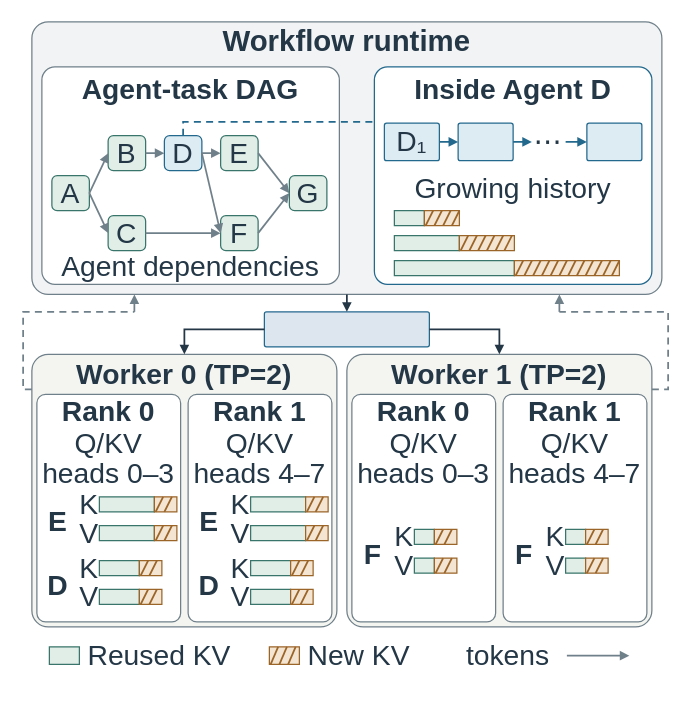
The diagram is 693 pixels wide and 701 high, and some of its shapes have lost their labels. Each missing label, with the centre of its shape:
"D₂" goes at pixel 485 141.
"Dₙ" goes at pixel 614 141.
"Router" goes at pixel 346 329.
